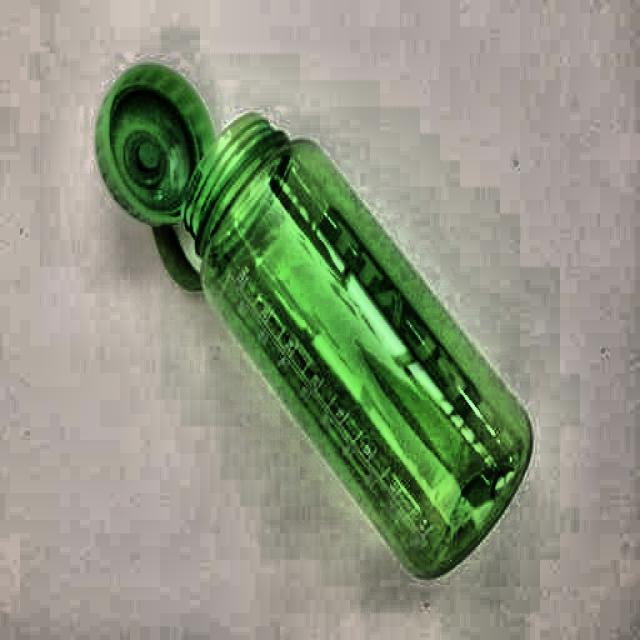plastic: (91, 61, 536, 580)
